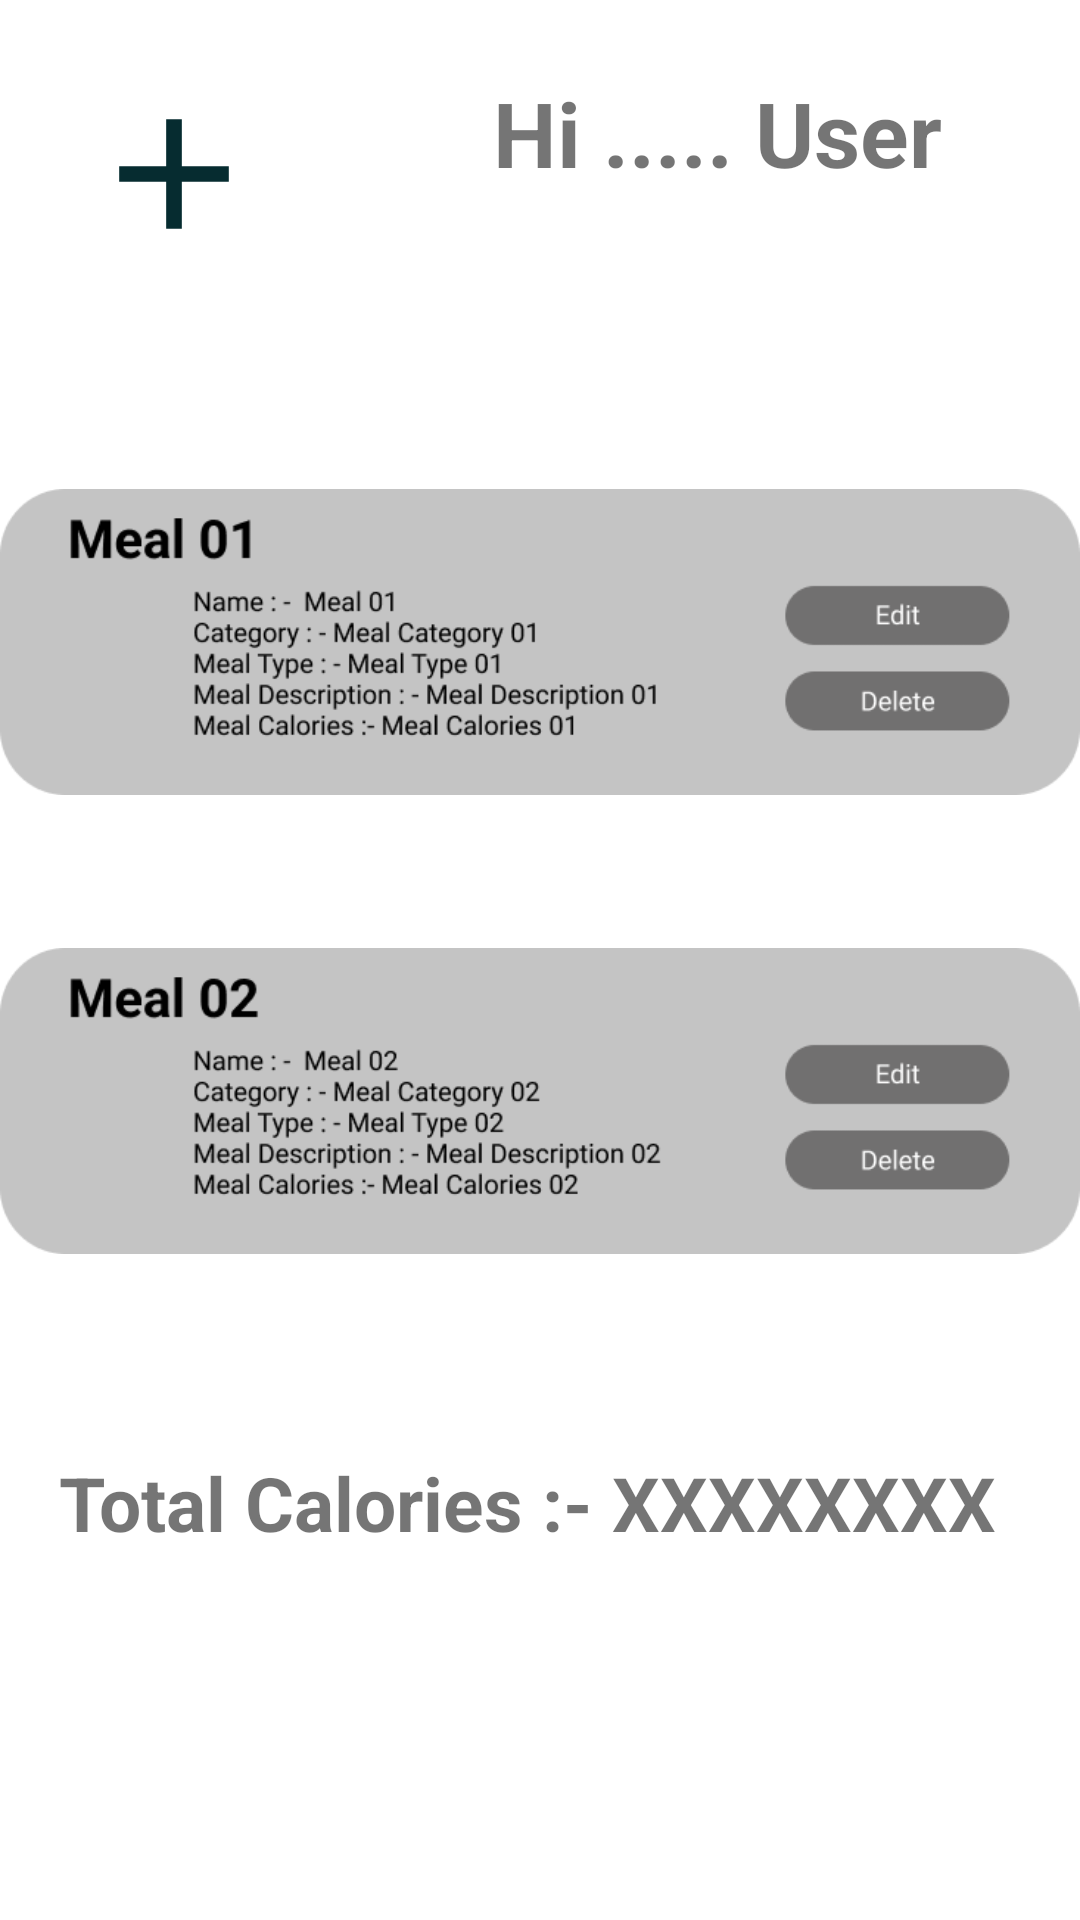

Icon bounding boxes for this 1080px x 1920px phone screenshot, format [x1=x1, y1=y1, x2=x2, y2=y2]:
add: [x1=119, y1=119, x2=229, y2=229]
